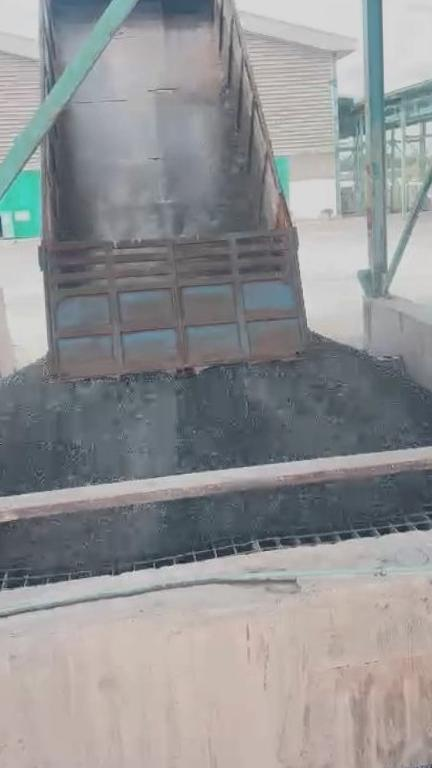gravel: (0, 336, 432, 497), (0, 468, 432, 572), (277, 751, 432, 768)
